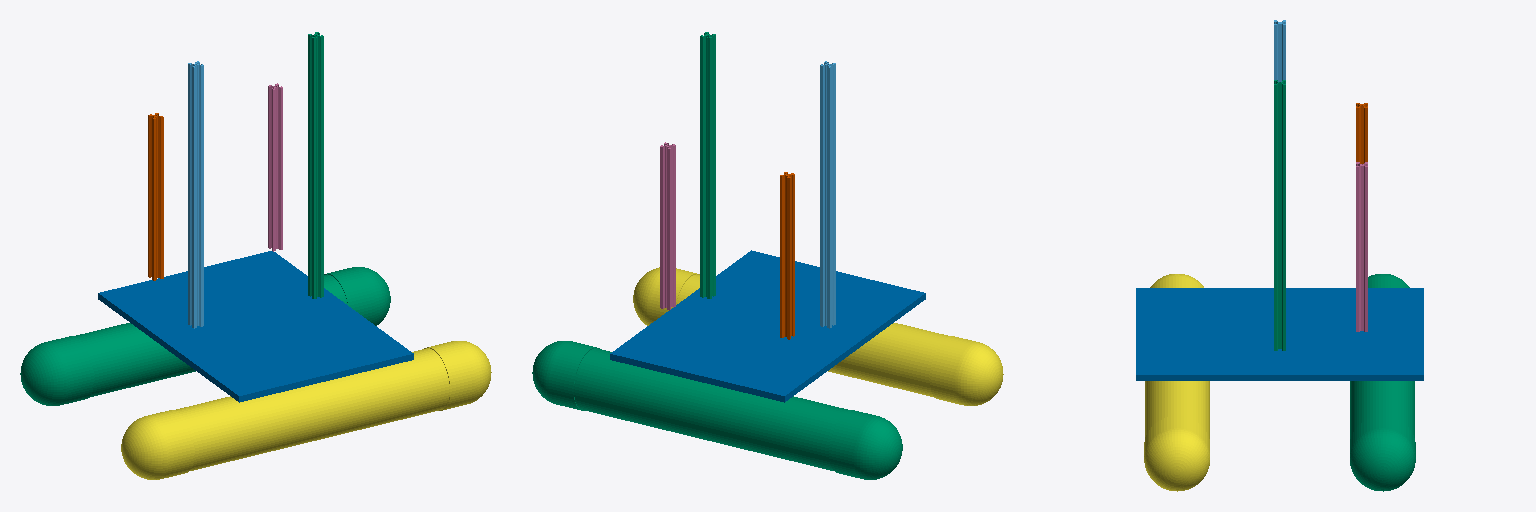
robot.urdf — asv_station_keeping_diag:
<?xml version='1.0' encoding='utf-8'?>
<robot name="asv_station_keeping_diag">
  <!-- Mesh-loading test only. Mounting poses are estimates, not Fusion occurrence transforms. 00_base has no visuals. -->
  <link name="base_footprint" />
  <link name="base_link">
    <inertial>
      <origin xyz="0 0 0" rpy="0 0 0" />
      <mass value="0.1" />
      <inertia ixx="0.0001" ixy="0" ixz="0" iyy="0.0001" iyz="0" izz="0.0001" />
    </inertial>
  </link>
  <link name="hull_left">
    <inertial>
      <origin xyz="0.0017543 -0.0000047 -0.0000010" rpy="0 0 0" />
      <mass value="8.7513272838" />
      <inertia ixx="0.0159438897" ixy="0" ixz="0" iyy="0.7485544942" iyz="0" izz="0.7485544942" />
    </inertial>
    <visual name="hull_left_visual">
      <origin xyz="-0.971730 0.357754 -1.641617" rpy="0 0 -1.57079632679" />
      <geometry>
        <mesh filename="package://asv_station_keeping/meshes/hull.stl" scale="0.001 0.001 0.001" />
      </geometry>
    </visual>
    <collision name="hull_left_collision">
      <geometry>
        <box size="0.724805 0.112973 0.112998" />
      </geometry>
    </collision>
  </link>
  <link name="hull_right">
    <inertial>
      <origin xyz="0.0017543 -0.0000047 -0.0000010" rpy="0 0 0" />
      <mass value="8.7513272838" />
      <inertia ixx="0.0159438897" ixy="0" ixz="0" iyy="0.7485544942" iyz="0" izz="0.7485544942" />
    </inertial>
    <visual name="hull_right_visual">
      <origin xyz="-0.971730 0.357754 -1.641617" rpy="0 0 -1.57079632679" />
      <geometry>
        <mesh filename="package://asv_station_keeping/meshes/hull.stl" scale="0.001 0.001 0.001" />
      </geometry>
    </visual>
    <collision name="hull_right_collision">
      <geometry>
        <box size="0.724805 0.112973 0.112998" />
      </geometry>
    </collision>
  </link>
  <link name="base_deck">
    <inertial>
      <origin xyz="0 0 0" rpy="0 0 0" />
      <mass value="16.1553" />
      <inertia ixx="0.3234344911" ixy="0" ixz="0" iyy="0.1651125511" iyz="0" izz="0.4881593150" />
    </inertial>
    <visual name="base_deck_visual">
      <origin xyz="-0.142254 -0.216347 -0.006000" rpy="1.57079632679 0 0" />
      <geometry>
        <mesh filename="package://asv_station_keeping/meshes/base_deck.stl" scale="0.001 0.001 0.001" />
      </geometry>
    </visual>
    <collision name="base_deck_collision">
      <geometry>
        <box size="0.350 0.490 0.012" />
      </geometry>
    </collision>
  </link>
  <link name="frame1_left">
    <inertial>
      <origin xyz="0 0 0" />
      <mass value="0.41469714" />
      <inertia ixx="0.00333785" ixy="0" ixz="0" iyy="0.00333785" iyz="0" izz="0.0000336422" />
    </inertial>
    <visual>
      <geometry>
        <mesh filename="package://asv_station_keeping/meshes/frame1.stl" scale="0.001 0.001 0.001" />
      </geometry>
    </visual>
    <collision>
      <geometry>
        <cylinder radius="0.010" length="0.310" />
      </geometry>
    </collision>
  </link>
  <link name="frame1_right">
    <inertial>
      <origin xyz="0 0 0" />
      <mass value="0.41469714" />
      <inertia ixx="0.00333785" ixy="0" ixz="0" iyy="0.00333785" iyz="0" izz="0.0000336422" />
    </inertial>
    <visual>
      <geometry>
        <mesh filename="package://asv_station_keeping/meshes/frame1.stl" scale="0.001 0.001 0.001" />
      </geometry>
    </visual>
    <collision>
      <geometry>
        <cylinder radius="0.010" length="0.310" />
      </geometry>
    </collision>
  </link>
  <link name="frame2_left">
    <inertial>
      <origin xyz="0 0 0" />
      <mass value="0.66886635" />
      <inertia ixx="0.01396185" ixy="0" ixz="0" iyy="0.01396185" iyz="0" izz="0.000054262" />
    </inertial>
    <visual>
      <geometry>
        <mesh filename="package://asv_station_keeping/meshes/frame2.stl" scale="0.001 0.001 0.001" />
      </geometry>
    </visual>
    <collision>
      <geometry>
        <cylinder radius="0.010" length="0.500" />
      </geometry>
    </collision>
  </link>
  <link name="frame2_right">
    <inertial>
      <origin xyz="0 0 0" />
      <mass value="0.66886635" />
      <inertia ixx="0.01396185" ixy="0" ixz="0" iyy="0.01396185" iyz="0" izz="0.000054262" />
    </inertial>
    <visual>
      <geometry>
        <mesh filename="package://asv_station_keeping/meshes/frame2.stl" scale="0.001 0.001 0.001" />
      </geometry>
    </visual>
    <collision>
      <geometry>
        <cylinder radius="0.010" length="0.500" />
      </geometry>
    </collision>
  </link>
  <link name="frame3_left">
    <inertial>
      <origin xyz="0 0 0" />
      <mass value="0.66886635" />
      <inertia ixx="0.01396185" ixy="0" ixz="0" iyy="0.01396185" iyz="0" izz="0.000054262" />
    </inertial>
    <visual>
      <geometry>
        <mesh filename="package://asv_station_keeping/meshes/frame3.stl" scale="0.001 0.001 0.001" />
      </geometry>
    </visual>
    <collision>
      <geometry>
        <cylinder radius="0.010" length="0.500" />
      </geometry>
    </collision>
  </link>
  <link name="frame3_right">
    <inertial>
      <origin xyz="0 0 0" />
      <mass value="0.66886635" />
      <inertia ixx="0.01396185" ixy="0" ixz="0" iyy="0.01396185" iyz="0" izz="0.000054262" />
    </inertial>
    <visual>
      <geometry>
        <mesh filename="package://asv_station_keeping/meshes/frame3.stl" scale="0.001 0.001 0.001" />
      </geometry>
    </visual>
    <collision>
      <geometry>
        <cylinder radius="0.010" length="0.500" />
      </geometry>
    </collision>
  </link>
  <joint name="base_footprint_to_base_link" type="fixed">
    <parent link="base_footprint" />
    <child link="base_link" />
    <origin xyz="0 0 0" rpy="0 0 0" />
  </joint>
  <joint name="base_to_hull_left" type="fixed">
    <parent link="base_link" />
    <child link="hull_left" />
    <origin xyz="0 0.175 0.055" rpy="0 0 0" />
  </joint>
  <joint name="base_to_hull_right" type="fixed">
    <parent link="base_link" />
    <child link="hull_right" />
    <origin xyz="0 -0.175 0.055" rpy="0 0 0" />
  </joint>
  <joint name="base_to_base_deck" type="fixed">
    <parent link="base_link" />
    <child link="base_deck" />
    <origin xyz="0 0 0.145" rpy="0 0 0" />
  </joint>
  <joint name="deck_to_frame1_left" type="fixed">
    <parent link="base_deck" />
    <child link="frame1_left" />
    <origin xyz="-0.12 0.14 0.22" />
  </joint>
  <joint name="deck_to_frame1_right" type="fixed">
    <parent link="base_deck" />
    <child link="frame1_right" />
    <origin xyz="0.12 0.14 0.22" />
  </joint>
  <joint name="deck_to_frame2_left" type="fixed">
    <parent link="base_deck" />
    <child link="frame2_left" />
    <origin xyz="-0.12 -0.14 0.28" />
  </joint>
  <joint name="deck_to_frame2_right" type="fixed">
    <parent link="base_deck" />
    <child link="frame2_right" />
    <origin xyz="0.12 -0.14 0.28" />
  </joint>
  <joint name="deck_to_frame3_left" type="fixed">
    <parent link="base_deck" />
    <child link="frame3_left" />
    <origin xyz="-0.12 0 0.28" />
  </joint>
  <joint name="deck_to_frame3_right" type="fixed">
    <parent link="base_deck" />
    <child link="frame3_right" />
    <origin xyz="0.12 0 0.28" />
  </joint>
</robot>

--- Facts derived from the render (not from the file) ---
Views: 3 orthographic renders of the robot side by side, from view 1: azimuth 30°, elevation 25°; view 2: azimuth 150°, elevation 25°; view 3: azimuth 270°, elevation 25°.
Robot: asv_station_keeping_diag — 11 links, 10 joints (10 fixed); root link base_footprint; default pose: every joint at zero.
Links seen in each view (by area): view 1: base_deck, hull_right, hull_left, frame3_right, frame3_left, frame1_left, frame1_right; view 2: base_deck, hull_left, hull_right, frame3_right, frame3_left, frame1_right, frame1_left; view 3: base_deck, hull_right, hull_left, frame3_right, frame1_right, frame3_left, frame1_left.
Link boxes in pixels (left/top/right/bottom): base_deck: left=98, top=251, right=413, bottom=402; hull_right: left=121, top=341, right=491, bottom=479; hull_left: left=20, top=267, right=390, bottom=405; frame3_right: left=308, top=32, right=323, bottom=298; frame3_left: left=188, top=61, right=203, bottom=328; frame1_left: left=148, top=113, right=163, bottom=280; frame1_right: left=268, top=83, right=282, bottom=251; base_deck: left=610, top=250, right=925, bottom=402; hull_left: left=532, top=341, right=902, bottom=479; hull_right: left=633, top=267, right=1003, bottom=405; frame3_right: left=700, top=32, right=715, bottom=298; frame3_left: left=820, top=61, right=835, bottom=328; frame1_right: left=660, top=142, right=675, bottom=310; frame1_left: left=780, top=172, right=794, bottom=339; base_deck: left=1136, top=288, right=1423, bottom=380; hull_right: left=1144, top=274, right=1209, bottom=491; hull_left: left=1350, top=274, right=1415, bottom=491; frame3_right: left=1274, top=80, right=1285, bottom=350; frame1_right: left=1356, top=162, right=1367, bottom=331; frame3_left: left=1274, top=20, right=1285, bottom=81; frame1_left: left=1356, top=103, right=1367, bottom=163.
Bounding box of the posed robot: 0.7248 × 0.49 × 0.6765 m (x, y, z).
7 mesh visuals loaded from 5 distinct referenced files (4 binary STL); not drawn: 2 (reference not matched to a file when rendering).
